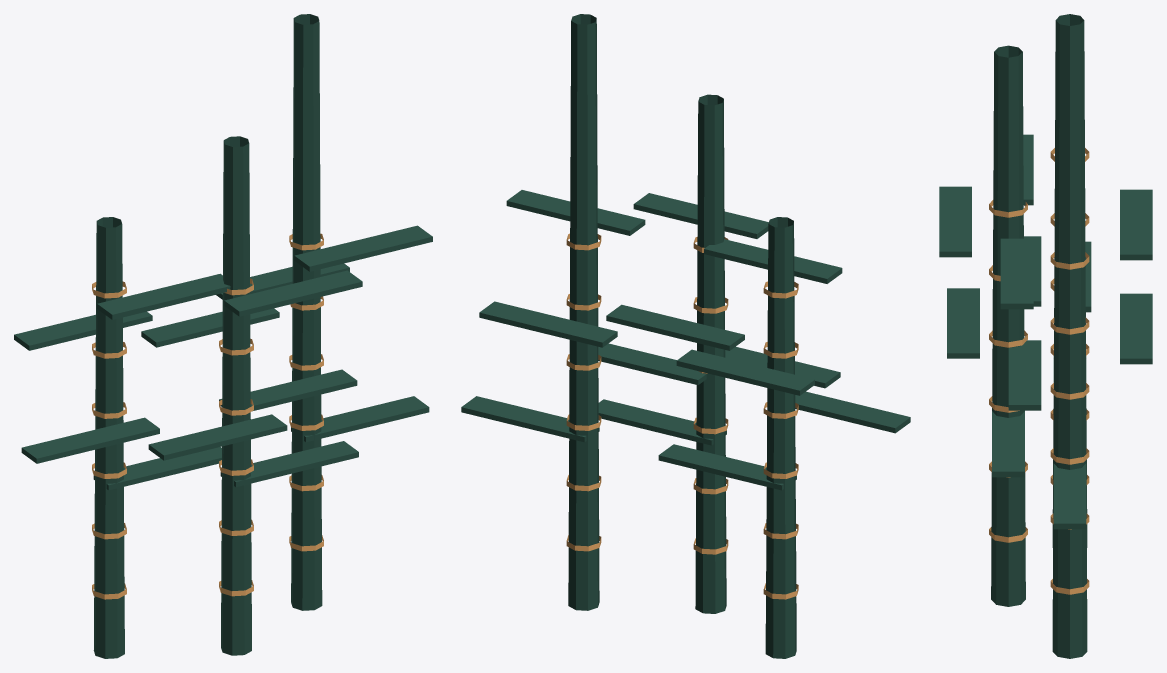
File: bamboo.obj
3 renders of one model, left to right at view 1: azimuth 30°, elevation 25°; view 2: azimuth 150°, elevation 25°; view 3: azimuth 270°, elevation 25°, orthographic. The views are drawn at different scales.
Visible parts, largest first — view 1: KAGEBOUND_environment; view 2: KAGEBOUND_environment; view 3: KAGEBOUND_environment.
Boxes of the visible parts, left/top/right/bottom form: KAGEBOUND_environment: left=14, top=14, right=432, bottom=658; KAGEBOUND_environment: left=461, top=14, right=910, bottom=658; KAGEBOUND_environment: left=939, top=14, right=1152, bottom=658.
Size of the model in its own units: 5.03 by 6.8 by 2.08.
